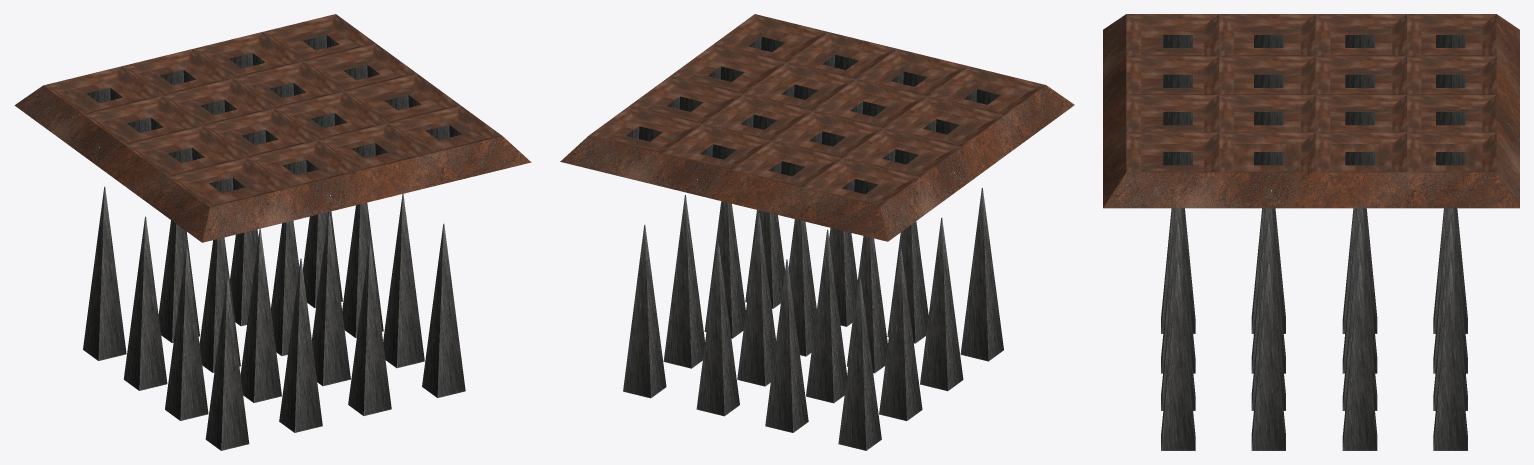
The model's file is floor_spikes_trap01.fbx.
The picture shows the model from 3 angles, left to right: view 1: azimuth 30°, elevation 25°; view 2: azimuth 150°, elevation 25°; view 3: azimuth 270°, elevation 25°; orthographic projection. The views are drawn at different scales.
Visible parts, largest first — view 1: Box001, Box014; view 2: Box001, Box014; view 3: Box001, Box014.
Part boxes in pixels (x1,y1,x2,y2): Box001: (14,14,531,242); Box014: (83,186,465,450); Box001: (560,14,1074,241); Box014: (623,188,1003,450); Box001: (1103,14,1519,208); Box014: (1161,208,1467,450).
Bounding box in the file's own units: 141 × 107 × 139.
